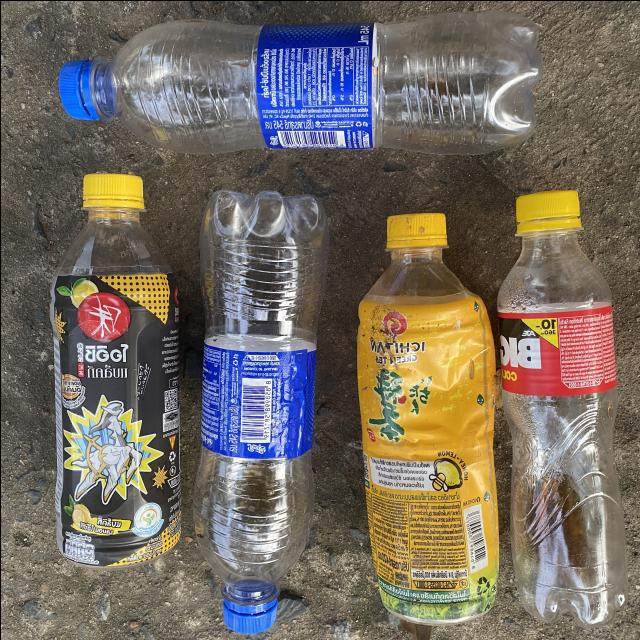plastik: (59, 10, 541, 153), (193, 189, 328, 633), (356, 213, 498, 624), (496, 190, 626, 627), (48, 172, 180, 567)
